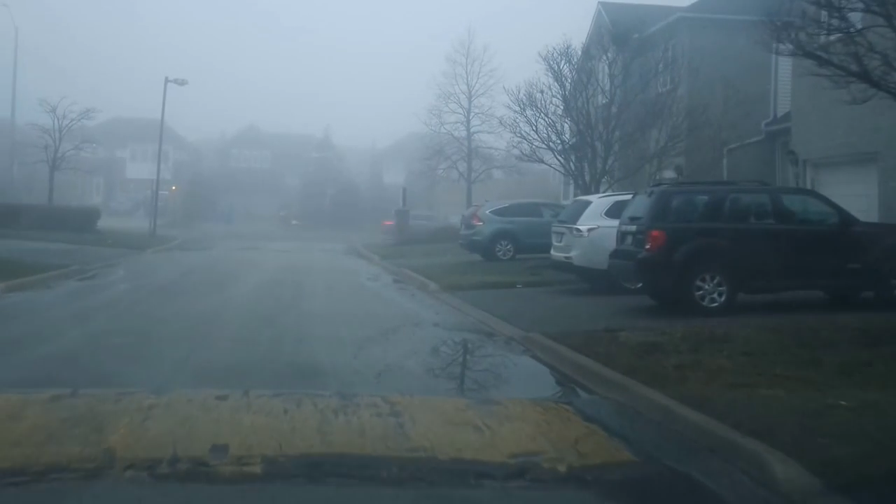car: (608, 178, 896, 313), (548, 187, 763, 294), (455, 199, 599, 261), (379, 209, 455, 241), (144, 190, 176, 216), (107, 191, 143, 214)
